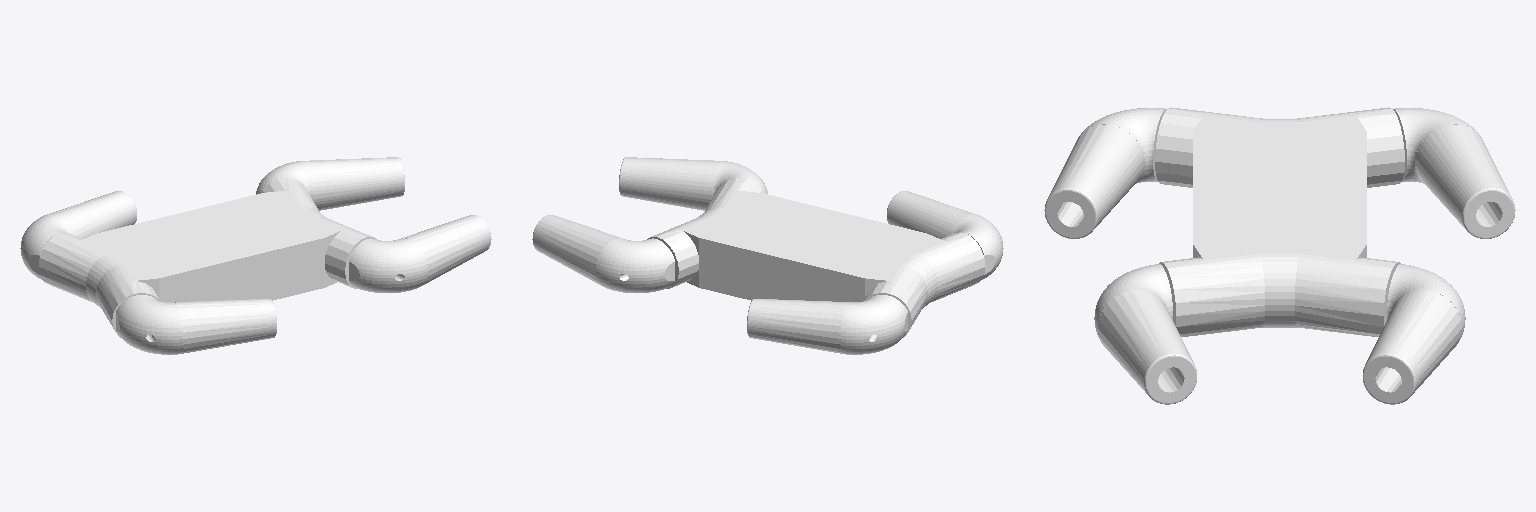
URDF robot description (16_degree):
<?xml version="1.0" encoding="utf-8"?>
<!-- This URDF was automatically created by SolidWorks to URDF Exporter! Originally created by [author] ([email redacted]) 
     Commit Version: 1.5.1-0-g916b5db  Build Version: 1.5.7152.31018
     For more information, please see http://wiki.ros.org/sw_urdf_exporter -->
<robot
  name="16_degree">
  <link
    name="base_link">
    <inertial>
      <origin
        xyz="6.9389E-18 5.308E-08 1.7347E-18"
        rpy="0 0 0" />
      <mass
        value="2.942" />
      <inertia
        ixx="0.0106004"
        ixy="-1.4228E-19"
        ixz="-1.0163E-10"
        iyy="0.0431073"
        iyz="5.1841E-18"
        izz="0.0510803" />
    </inertial>
    <visual>
      <origin
        xyz="0 0 0"
        rpy="0 0 0" />
      <geometry>
        <mesh
          filename="package://16_degree/meshes/base_link.STL" />
      </geometry>
      <material
        name="">
        <color
          rgba="1 1 1 1" />
      </material>
    </visual>
    <collision>
      <origin
        xyz="0 0 0"
        rpy="0 0 0" />
      <geometry>
        <mesh
          filename="package://16_degree/meshes/base_link.STL" />
      </geometry>
    </collision>
  </link>
  <link
    name="left_front_link">
    <inertial>
      <origin
        xyz="-1.7488E-08 0.05683 -0.036011"
        rpy="0 0 0" />
      <mass
        value="0.095" />
      <inertia
        ixx="0.0002672"
        ixy="7.4034E-10"
        ixz="7.5294E-10"
        iyy="0.0000540"
        iyz="2.33E-05"
        izz="0.0002642" />
    </inertial>
    <visual>
      <origin
        xyz="0 0 0"
        rpy="0 0 0" />
      <geometry>
        <mesh
          filename="package://16_degree/meshes/left_front_link.STL" />
      </geometry>
      <material
        name="">
        <color
          rgba="1 1 1 1" />
      </material>
    </visual>
    <collision>
      <origin
        xyz="0 0 0"
        rpy="0 0 0" />
      <geometry>
        <mesh
          filename="package://16_degree/meshes/left_front_link.STL" />
      </geometry>
    </collision>
  </link>
  <joint
    name="left_front_leg"
    type="continuous">
    <origin
      xyz="0.15839 0.09901 0"
      rpy="1.85 1.5708 0" />
    <parent
      link="base_link" />
    <child
      link="left_front_link" />
    <axis
      xyz="0 0 -1" />
    <limit
      effort="5"
      velocity="487" />
  </joint>
  <link
    name="right_front_link">
    <inertial>
      <origin
        xyz="1.7488E-08 0.05683 0.036011"
        rpy="0 0 0" />
      <mass
        value="0.095" />
      <inertia
        ixx="0.0002672"
        ixy="-7.4034E-10"
        ixz="7.5294E-10"
        iyy="0.0000540"
        iyz="-2.33E-05"
        izz="0.0002642" />
    </inertial>
    <visual>
      <origin
        xyz="0 0 0"
        rpy="0 0 0" />
      <geometry>
        <mesh
          filename="package://16_degree/meshes/right_front_link.STL" />
      </geometry>
      <material
        name="">
        <color
          rgba="1 1 1 1" />
      </material>
    </visual>
    <collision>
      <origin
        xyz="0 0 0"
        rpy="0 0 0" />
      <geometry>
        <mesh
          filename="package://16_degree/meshes/right_front_link.STL" />
      </geometry>
    </collision>
  </link>
  <joint
    name="right_front_leg"
    type="continuous">
    <origin
      xyz="0.15839 -0.09901 0"
      rpy="1.2915 1.5708 0" />
    <parent
      link="base_link" />
    <child
      link="right_front_link" />
    <axis
      xyz="0 0 1" />
    <limit
      effort="5"
      velocity="487" />
  </joint>
  <link
    name="right_back_link">
    <inertial>
      <origin
        xyz="8.6114E-08 0.056834 0.03601"
        rpy="0 0 0" />
      <mass
        value="0.095" />
      <inertia
        ixx="0.0002672"
        ixy="-5.4276E-10"
        ixz="2.4861E-10"
        iyy="0.0000540"
        iyz="-2.33E-05"
        izz="0.0002642" />
    </inertial>
    <visual>
      <origin
        xyz="0 0 0"
        rpy="0 0 0" />
      <geometry>
        <mesh
          filename="package://16_degree/meshes/right_back_link.STL" />
      </geometry>
      <material
        name="">
        <color
          rgba="1 1 1 1" />
      </material>
    </visual>
    <collision>
      <origin
        xyz="0 0 0"
        rpy="0 0 0" />
      <geometry>
        <mesh
          filename="package://16_degree/meshes/right_back_link.STL" />
      </geometry>
    </collision>
  </link>
  <joint
    name="right_back_leg"
    type="continuous">
    <origin
      xyz="-0.15839 -0.09901 0"
      rpy="1.85 1.5708 0" />
    <parent
      link="base_link" />
    <child
      link="right_back_link" />
    <axis
      xyz="0 0 1" />
    <limit
      effort="5"
      velocity="487" />
  </joint>
  <link
    name="left_back_link">
    <inertial>
      <origin
        xyz="-8.6114E-08 0.056834 -0.03601"
        rpy="0 0 0" />
      <mass
        value="0.095" />
      <inertia
        ixx="0.0002672"
        ixy="5.4276E-10"
        ixz="2.4861E-10"
        iyy="0.0000540"
        iyz="2.33E-05"
        izz="0.0002642" />
    </inertial>
    <visual>
      <origin
        xyz="0 0 0"
        rpy="0 0 0" />
      <geometry>
        <mesh
          filename="package://16_degree/meshes/left_back_link.STL" />
      </geometry>
      <material
        name="">
        <color
          rgba="1 1 1 1" />
      </material>
    </visual>
    <collision>
      <origin
        xyz="0 0 0"
        rpy="0 0 0" />
      <geometry>
        <mesh
          filename="package://16_degree/meshes/left_back_link.STL" />
      </geometry>
    </collision>
  </link>
  <joint
    name="left_back_leg"
    type="continuous">
    <origin
      xyz="-0.15839 0.09901 0"
      rpy="1.2915 1.5708 0" />
    <parent
      link="base_link" />
    <child
      link="left_back_link" />
    <axis
      xyz="0 0 -1" />
    <limit
      effort="5"
      velocity="487" />
  </joint>
</robot>

--- What the picture shows (computed from the rendered views, not written in the file) ---
The picture shows the robot from 3 angles, left to right: view 1: azimuth 30°, elevation 25°; view 2: azimuth 150°, elevation 25°; view 3: azimuth 270°, elevation 25°; orthographic projection.
Robot: 16_degree — 5 links, 4 joints (4 continuous); root link base_link; default pose: every joint at zero.
Visible links, largest first — view 1: base_link, right_back_link, right_front_link, left_front_link, left_back_link; view 2: base_link, left_back_link, left_front_link, right_front_link, right_back_link; view 3: base_link, right_back_link, left_back_link, left_front_link, right_front_link.
Link boxes in pixels (x1,y1,x2,y2): base_link: (38, 178, 376, 337); right_back_link: (116, 295, 276, 354); right_front_link: (349, 215, 491, 292); left_front_link: (256, 157, 404, 210); left_back_link: (20, 191, 136, 279); base_link: (647, 178, 985, 337); left_back_link: (747, 295, 907, 354); left_front_link: (532, 215, 674, 292); right_front_link: (619, 157, 767, 210); right_back_link: (887, 191, 1003, 279); base_link: (1155, 107, 1404, 336); right_back_link: (1044, 108, 1166, 238); left_back_link: (1393, 108, 1515, 238); left_front_link: (1363, 264, 1465, 404); right_front_link: (1094, 264, 1196, 404).
Size in the robot's own frame: 0.5199 by 0.4078 by 0.0672 metres.
5 mesh visuals loaded from 5 distinct referenced files (5 binary STL).